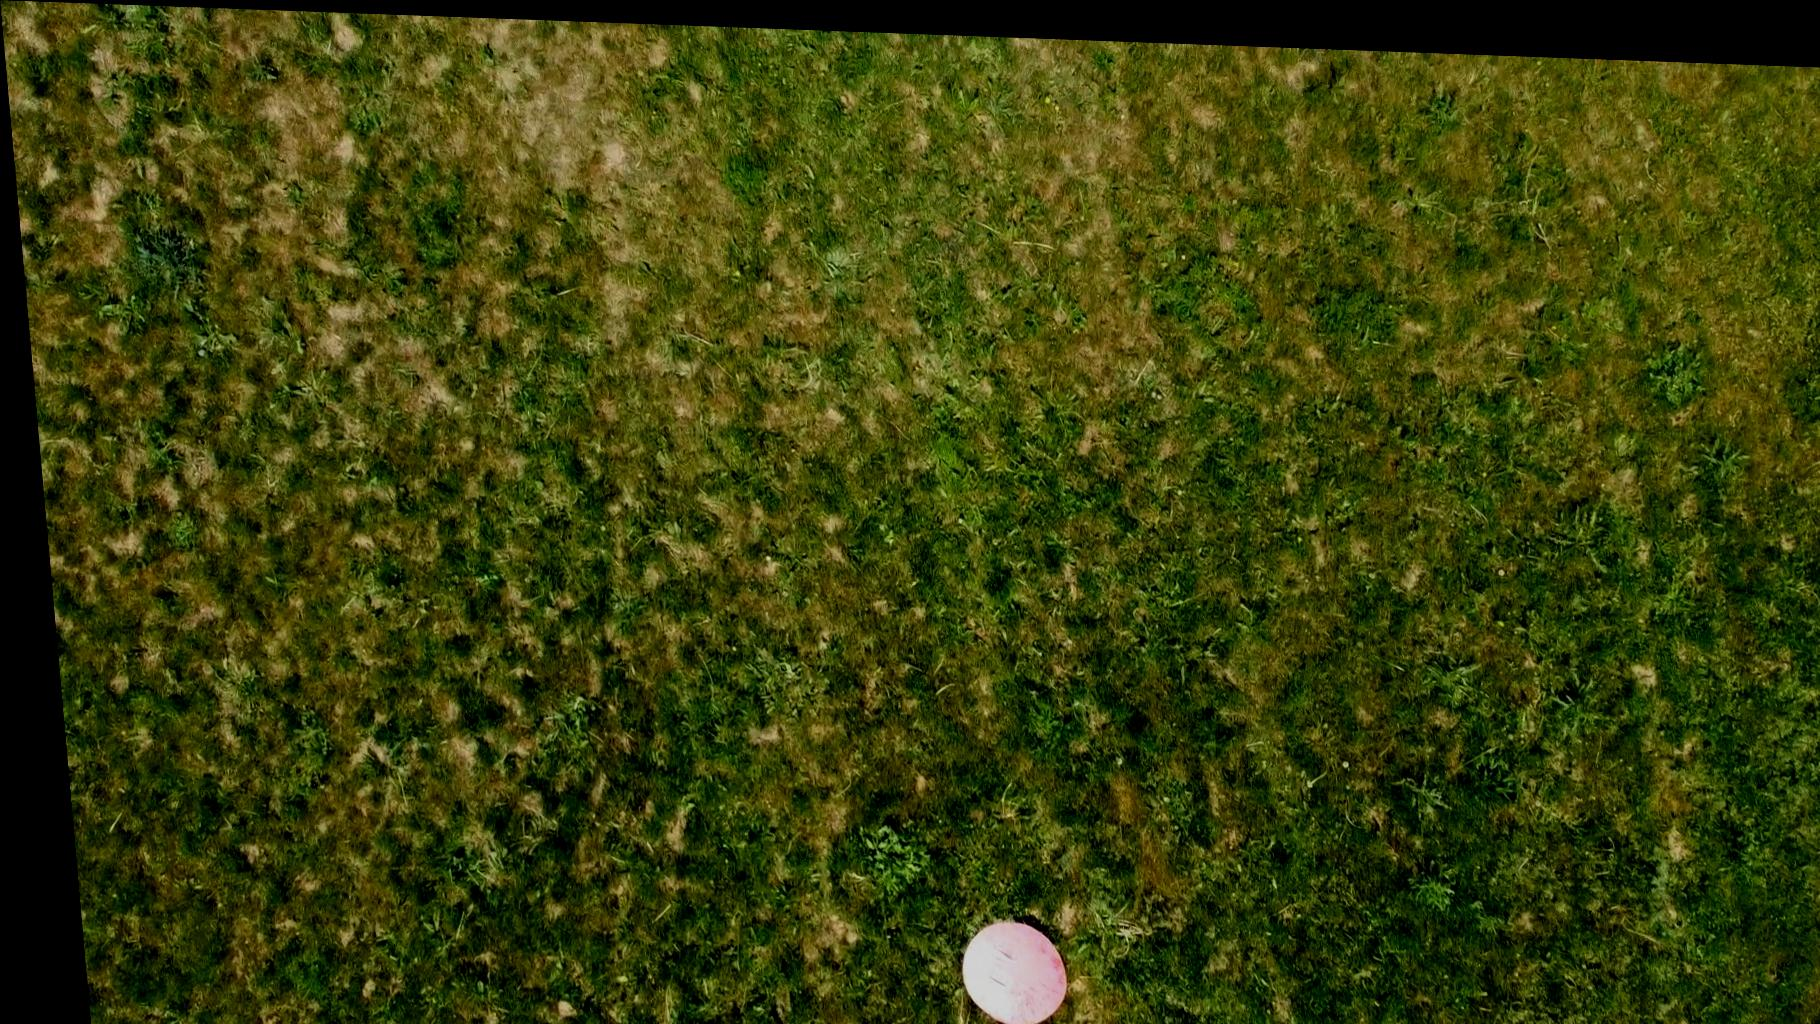Red: (936, 909, 1059, 1024)
